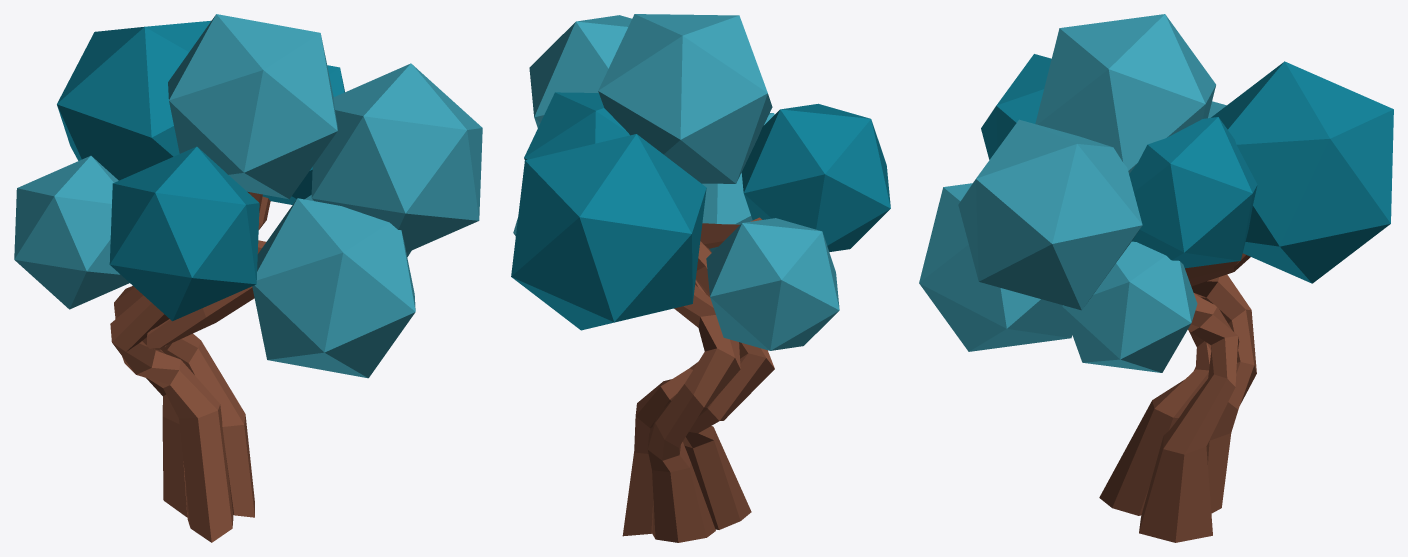
Rendered from Tree_06_summer_blue_vc.fbx.
The picture shows the model from 3 angles, left to right: view 1: azimuth 30°, elevation 25°; view 2: azimuth 150°, elevation 25°; view 3: azimuth 270°, elevation 25°; orthographic projection. The views are drawn at different scales.
Visible parts, largest first — view 1: Tree_06_summer_blue_vc; view 2: Tree_06_summer_blue_vc; view 3: Tree_06_summer_blue_vc.
Part boxes in pixels (bbox=[...]): Tree_06_summer_blue_vc: bbox=[14, 14, 482, 542]; Tree_06_summer_blue_vc: bbox=[511, 14, 890, 542]; Tree_06_summer_blue_vc: bbox=[919, 14, 1393, 542].
Size of the model in its own units: 488 by 598 by 507.
